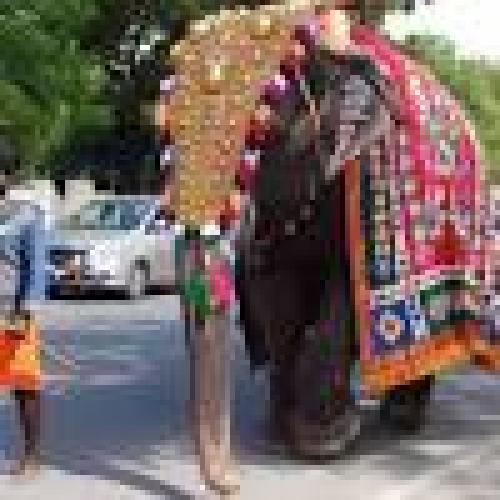asian_elephant-endangered: (160, 6, 439, 500)
